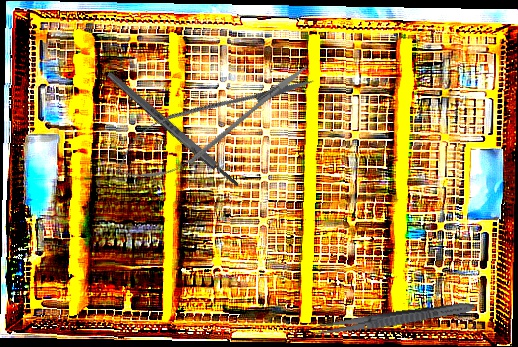Dressing Forceps: (308, 297, 478, 341)
Micro Scissor: (103, 48, 323, 198)
Scalpel Handle: (105, 69, 241, 190)
